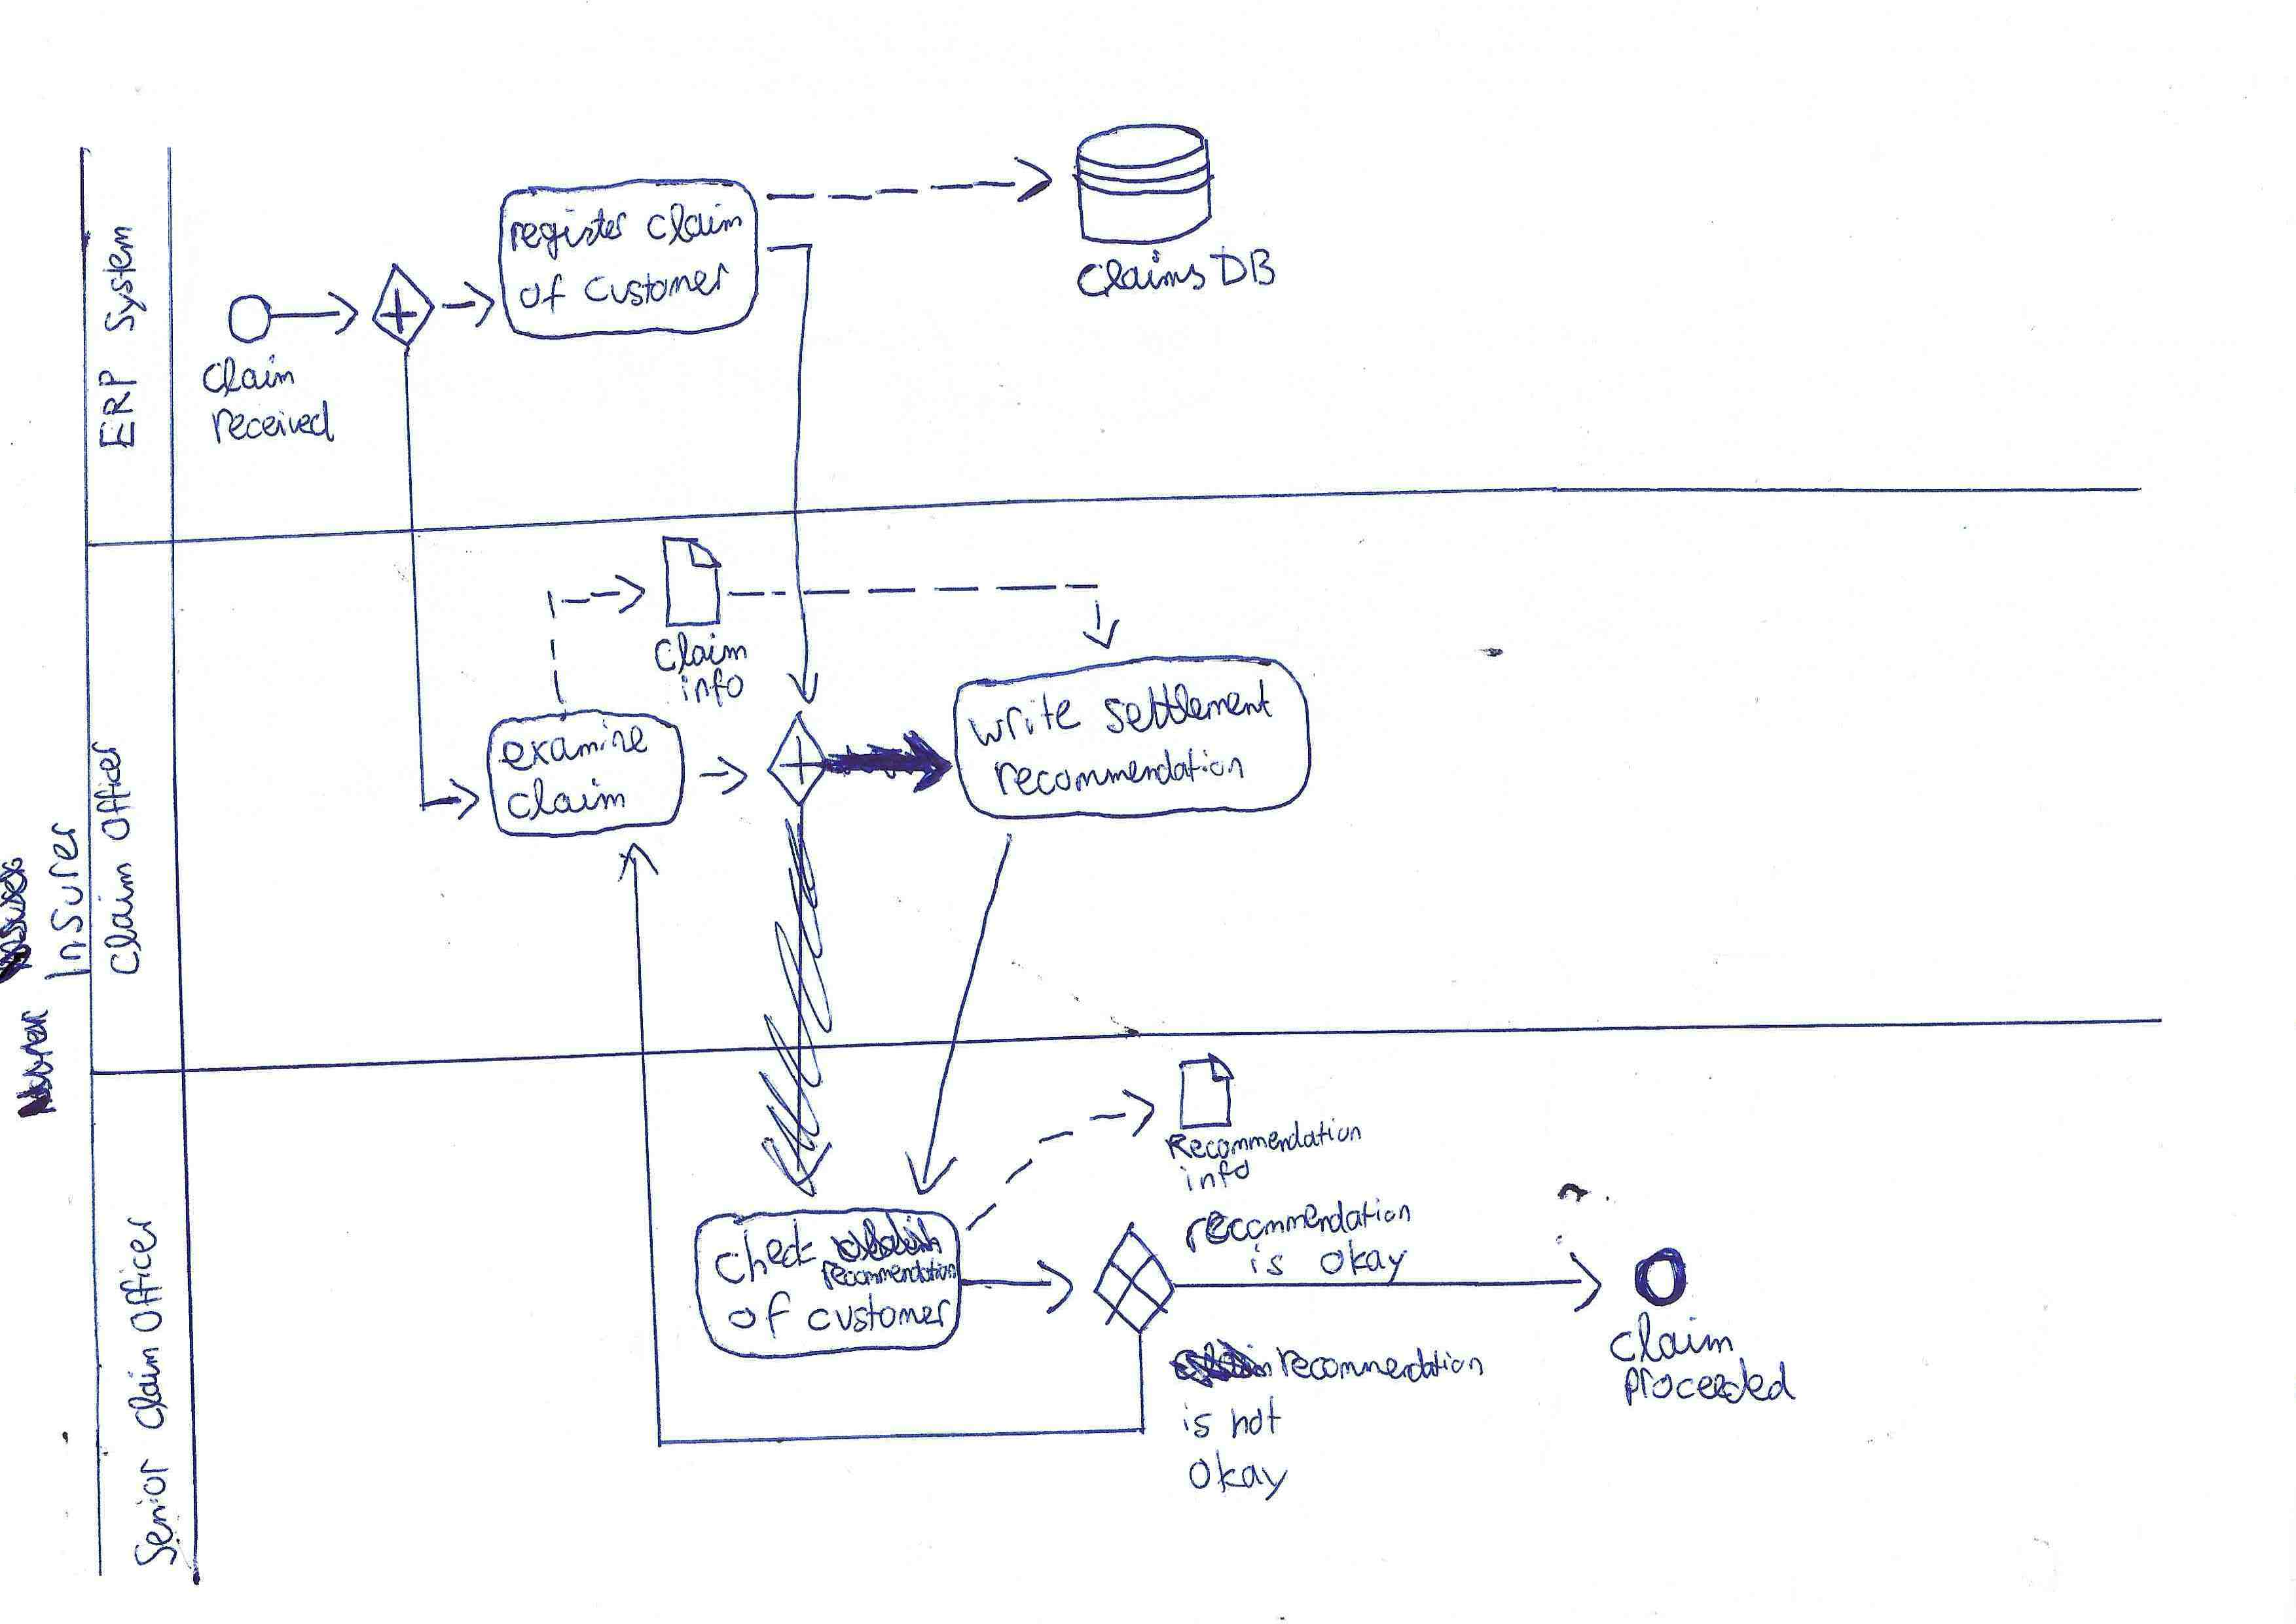Claim: (649, 626, 752, 682), (197, 350, 301, 402), (120, 1339, 174, 1436)
Claims: (1071, 243, 1211, 306)
DB: (1202, 241, 1283, 294)
ERP: (91, 364, 146, 455)
Insurer: (33, 812, 97, 988)
Officer: (113, 1211, 169, 1338)
Recommendation: (1160, 1114, 1368, 1165)
Senior: (127, 1452, 181, 1573)
System: (97, 221, 153, 337)
check: (708, 1211, 823, 1292)
claim: (1603, 1306, 1740, 1369), (91, 856, 148, 982), (503, 773, 631, 826), (642, 199, 749, 251)
customer: (578, 257, 735, 313), (800, 1288, 956, 1339)
examine: (492, 714, 654, 777)
info: (673, 661, 751, 714), (1174, 1155, 1255, 1197)
is: (1245, 1239, 1290, 1281), (1178, 1397, 1218, 1443)
not: (1225, 1388, 1287, 1445)
of: (721, 1285, 798, 1345), (513, 269, 571, 320)
officer: (86, 735, 139, 847)
okay: (1183, 1443, 1294, 1508), (1313, 1232, 1413, 1288)
proceeded: (1617, 1352, 1804, 1415)
received: (206, 394, 341, 450)
recommendation: (1180, 1192, 1417, 1262), (986, 742, 1250, 803), (1269, 1339, 1489, 1390), (816, 1251, 962, 1297)
register: (505, 202, 633, 267)
settlement: (1097, 671, 1280, 740)
write: (962, 685, 1088, 754)
